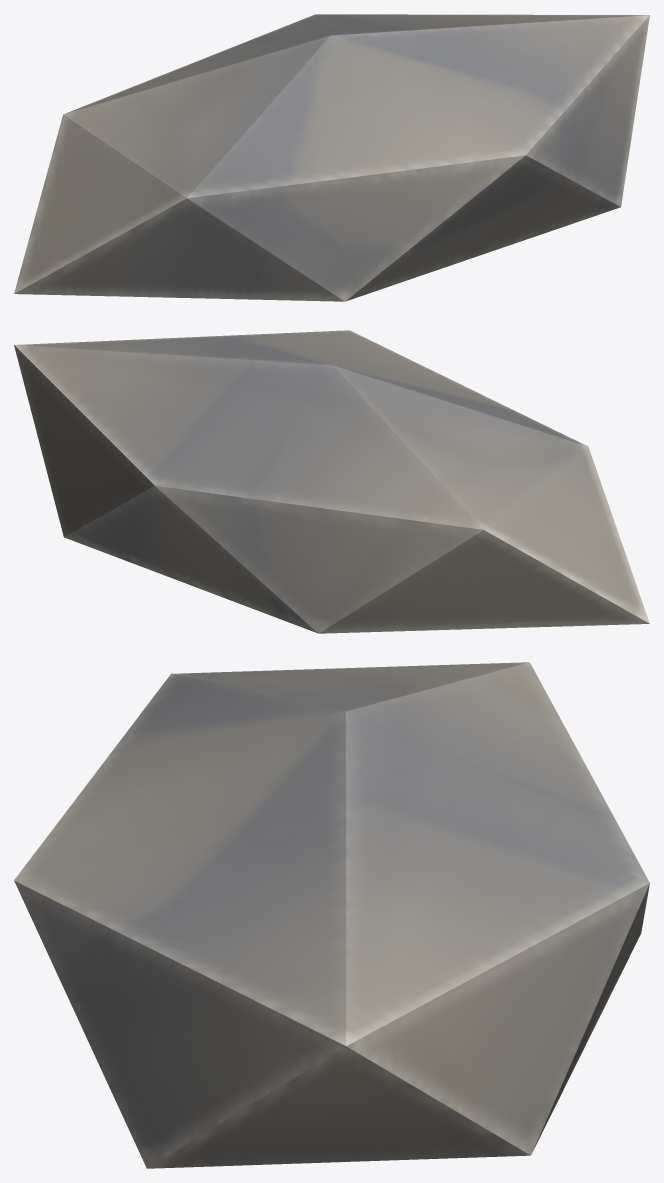
Rendered from fx_chip.glb.
The picture shows the model from 3 angles, top to bottom: view 1: azimuth 30°, elevation 25°; view 2: azimuth 150°, elevation 25°; view 3: azimuth 270°, elevation 25°; orthographic projection. The views are drawn at different scales.
Visible parts, largest first — view 1: SM_FxChip; view 2: SM_FxChip; view 3: SM_FxChip.
Part boxes in pixels (x1=…): SM_FxChip: x1=14, y1=14, x2=649, y2=301; SM_FxChip: x1=14, y1=330, x2=649, y2=633; SM_FxChip: x1=14, y1=662, x2=649, y2=1168.
Size of the model in its own units: 0.126 by 0.0353 by 0.0695.
1 material, 1 textured.
